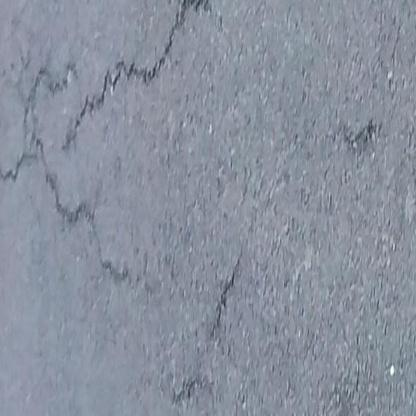Cracks: (14, 125, 201, 329), (49, 0, 232, 156), (0, 44, 98, 209), (162, 227, 246, 416), (316, 98, 398, 172)
